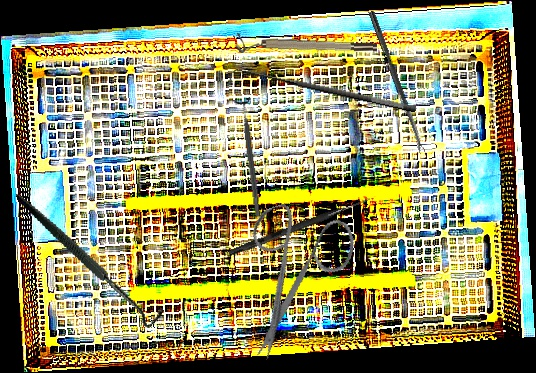Fixation Ring: (231, 97, 268, 218), (235, 33, 378, 60)
Hook Surgical: (15, 161, 168, 355), (225, 60, 418, 128), (228, 194, 372, 258)
Iris Scissors: (212, 185, 382, 363)
Surgical Spoon: (367, 10, 426, 155)
